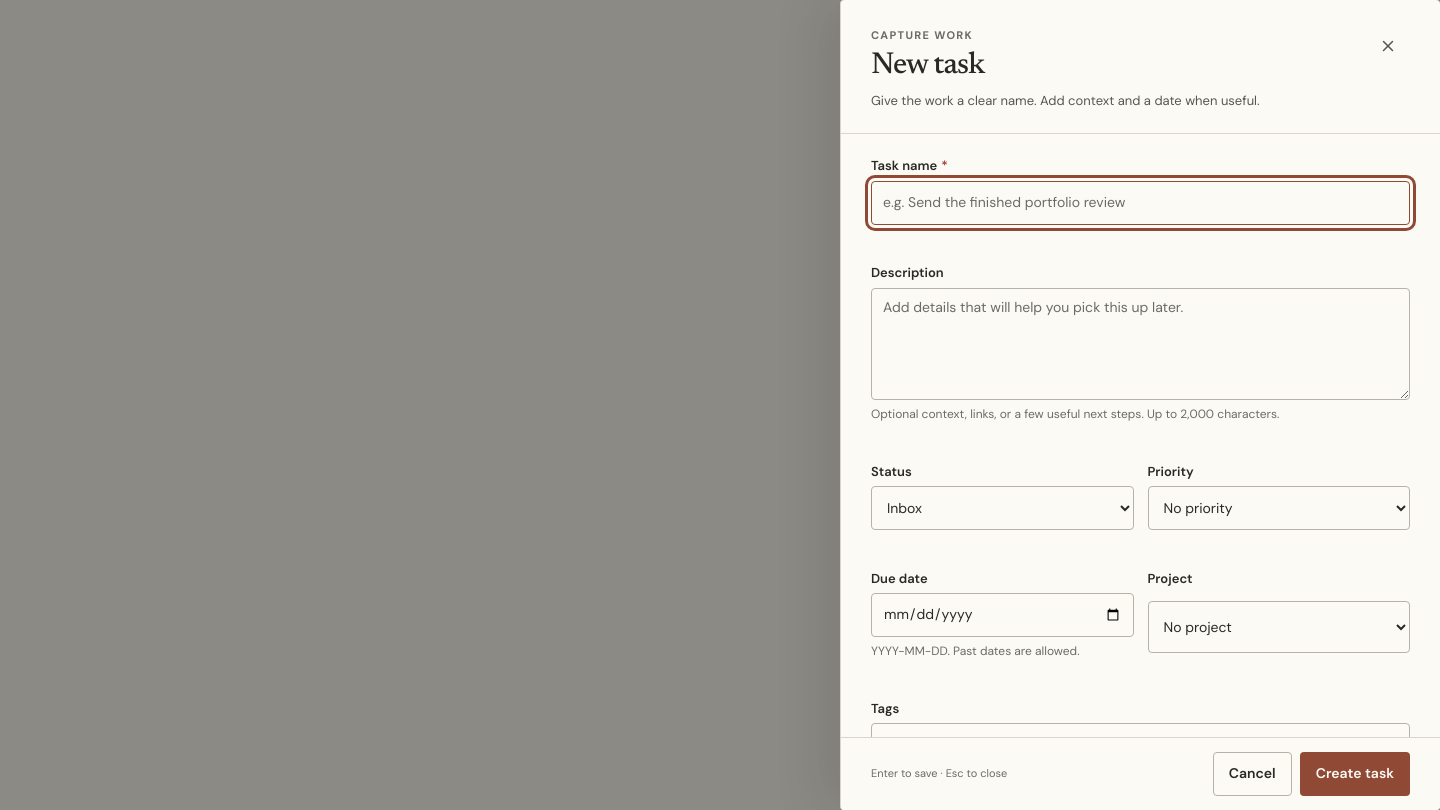
TaskFormDialog › focuses the first invalid field, shows exact title feedback, and creates nothing
What coordinates should you click on to do the following:
click the button "Create task"
I would click on:
 (1355, 774)
Its box is [1300,752,1410,796].
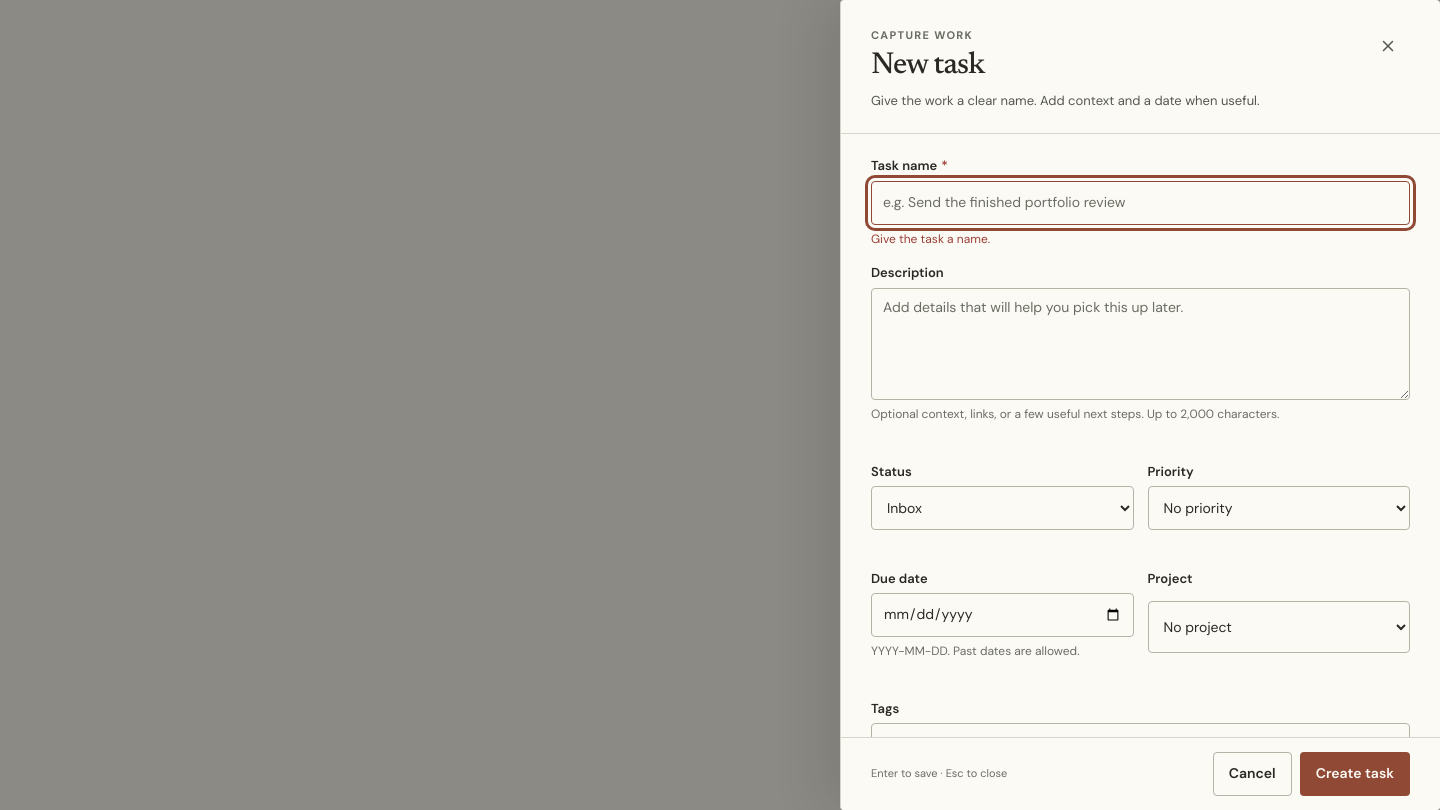
Expected: the text "Give the task a name." is shown, [871,231,990,247]
